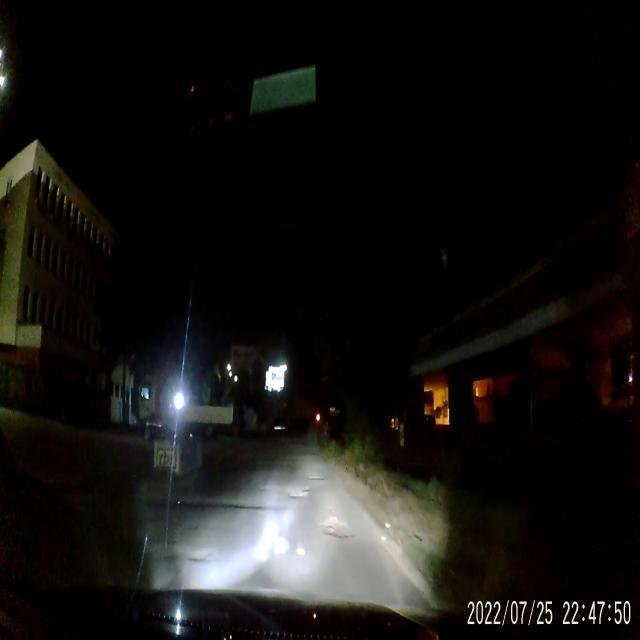Pothole: (211, 496, 271, 514), (320, 511, 354, 540), (182, 538, 208, 568), (290, 484, 312, 504), (306, 471, 326, 484)
